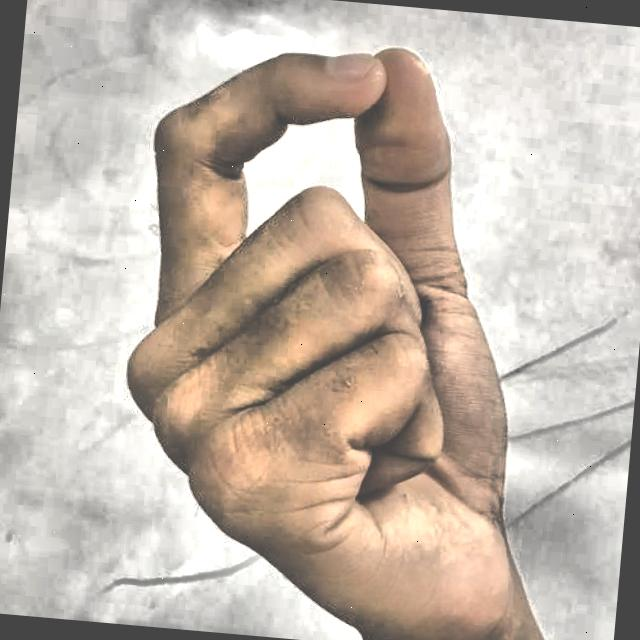Gha: (61, 4, 599, 640)
